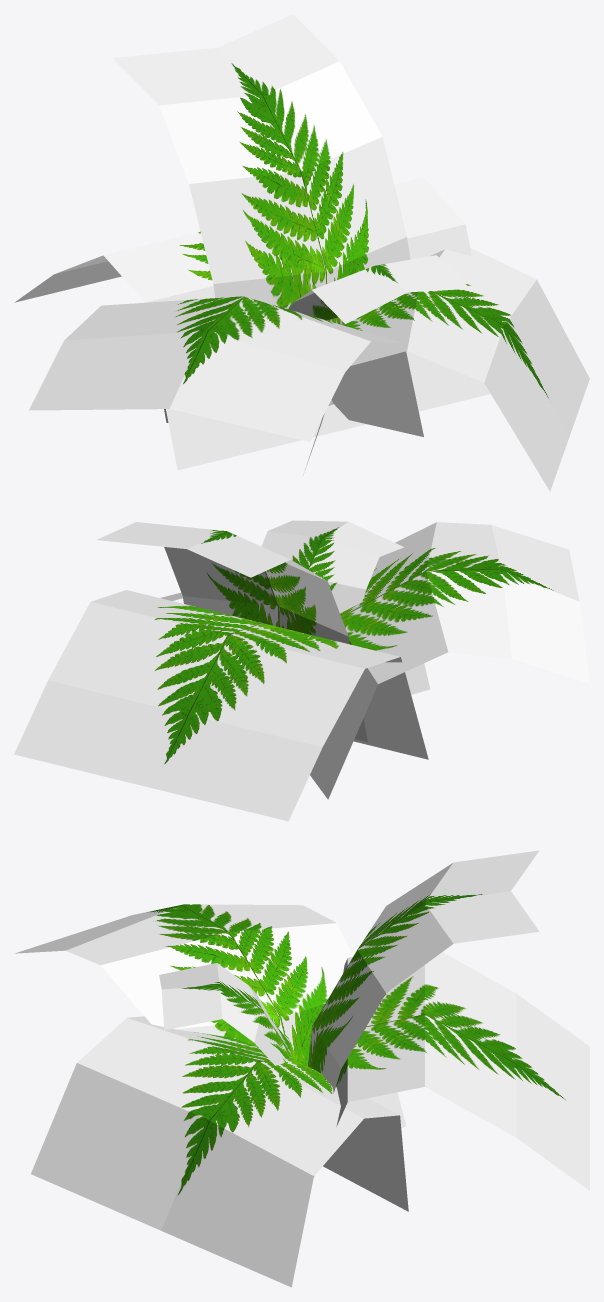
Rendered from 3DObj_Fern.fbx.
3 renders of one model, top to bottom at view 1: azimuth 30°, elevation 25°; view 2: azimuth 150°, elevation 25°; view 3: azimuth 270°, elevation 25°, orthographic. The views are drawn at different scales.
Visible parts, largest first — view 1: 3DObj_Fern; view 2: 3DObj_Fern; view 3: 3DObj_Fern.
Boxes of the visible parts, <box> form: 3DObj_Fern: <box>14,14,589,491</box>; 3DObj_Fern: <box>14,520,589,821</box>; 3DObj_Fern: <box>15,850,589,1287</box>.
Bounding box in the file's own units: 222 × 112 × 206.
Materials: 1 (1 with a texture image).
